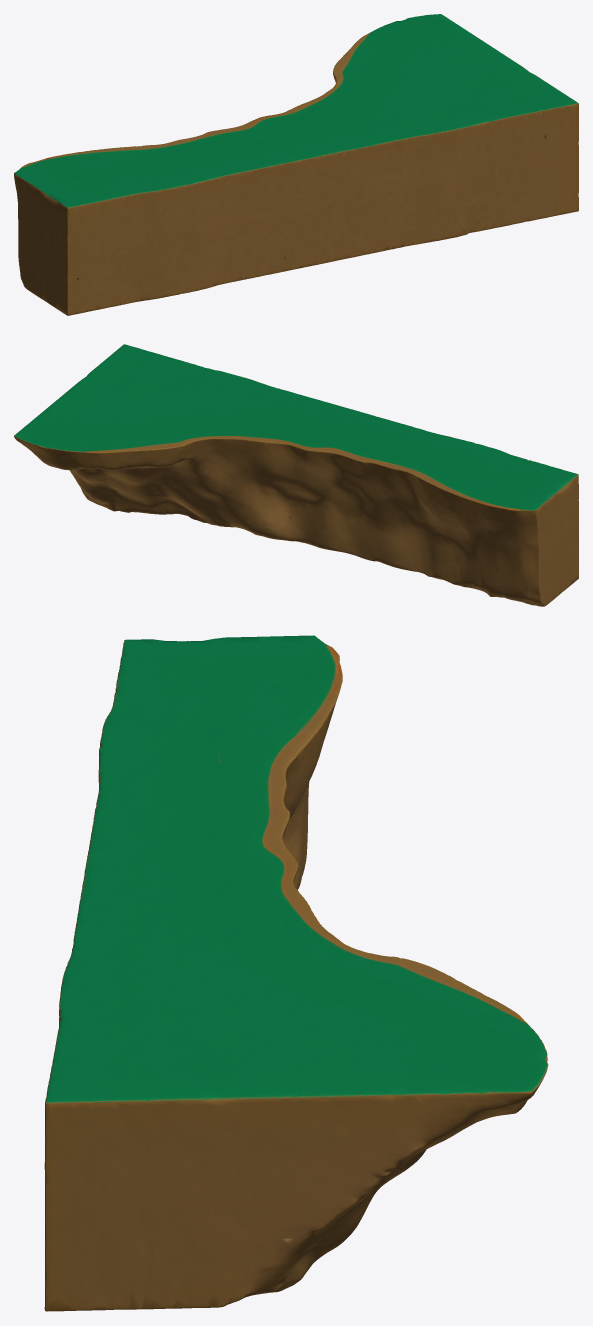
The model's file is left cliff.fbx.
3 renders of one model, top to bottom at view 1: azimuth 30°, elevation 25°; view 2: azimuth 150°, elevation 25°; view 3: azimuth 270°, elevation 25°, orthographic. The views are drawn at different scales.
Parts seen in each view (by area): view 1: tripo_node_99cf1404; view 2: tripo_node_99cf1404; view 3: tripo_node_99cf1404.
Part boxes in pixels (<box>): tripo_node_99cf1404: <box>14,14,578,315</box>; tripo_node_99cf1404: <box>14,344,578,606</box>; tripo_node_99cf1404: <box>44,635,548,1311</box>.
Bounding box in the file's own units: 568 × 119 × 259.
